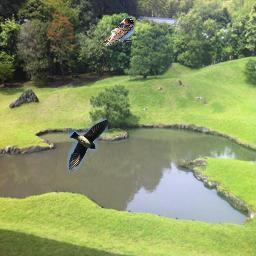Swallow: (67, 118, 108, 173), (101, 17, 135, 47)
